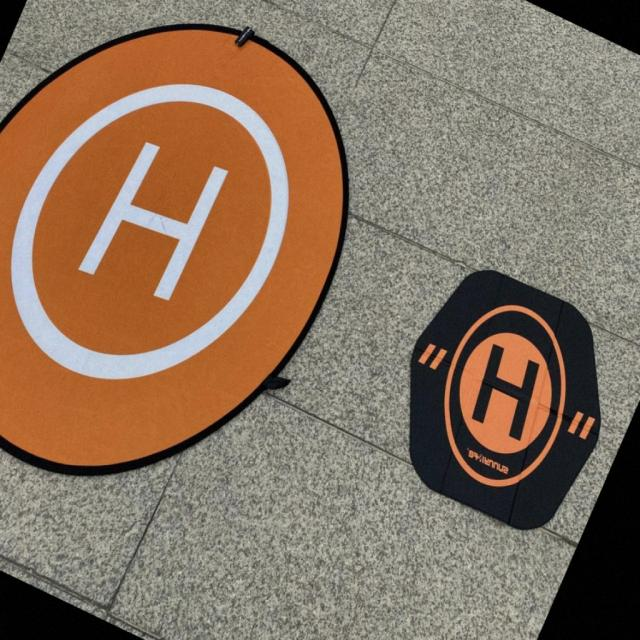helipad: (2, 77, 296, 386), (439, 301, 569, 490)
